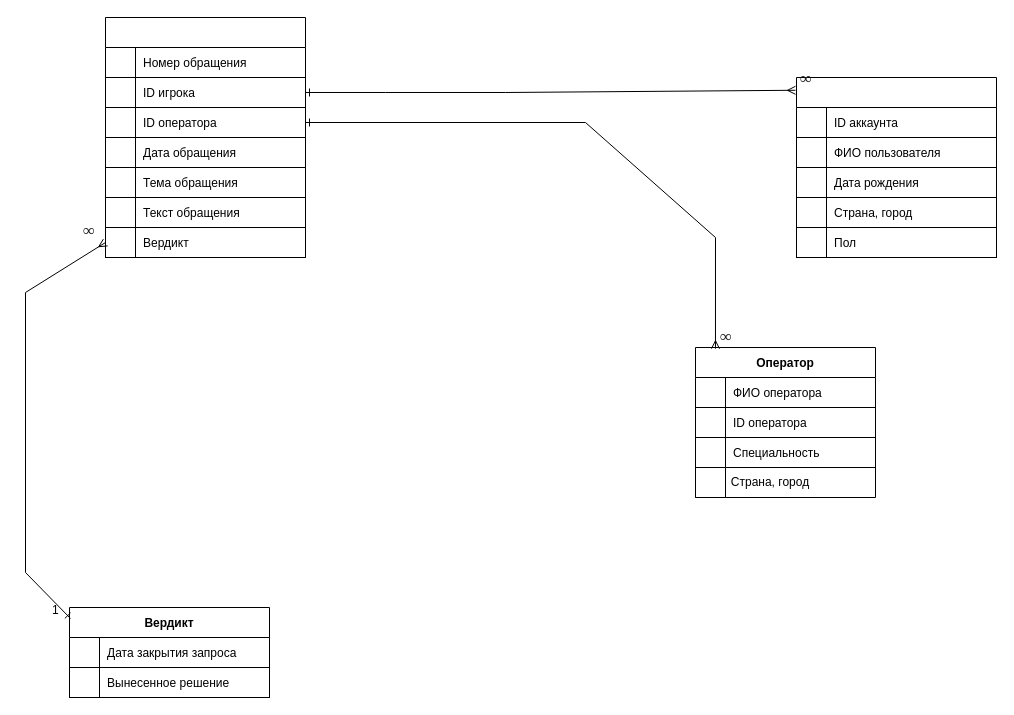
This 1014x715 diagram has some shape labels left out. The box of each missing label's shape, as (x1, y1, x2, y2) in pixels:
Игрок: (796, 76, 996, 258)
Обращение в поддержку: (104, 16, 306, 258)
